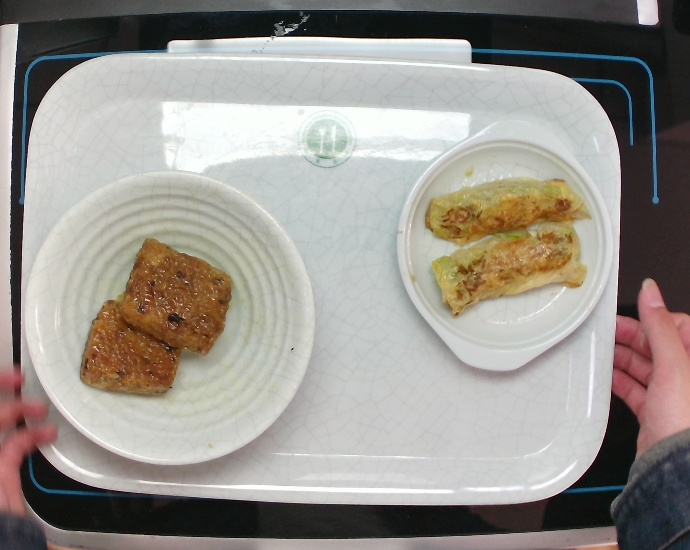JYsf-Shuang_Er_Pan: (392, 113, 620, 387)
JYsf-Xiao_Tang_Wan: (19, 164, 322, 474)
